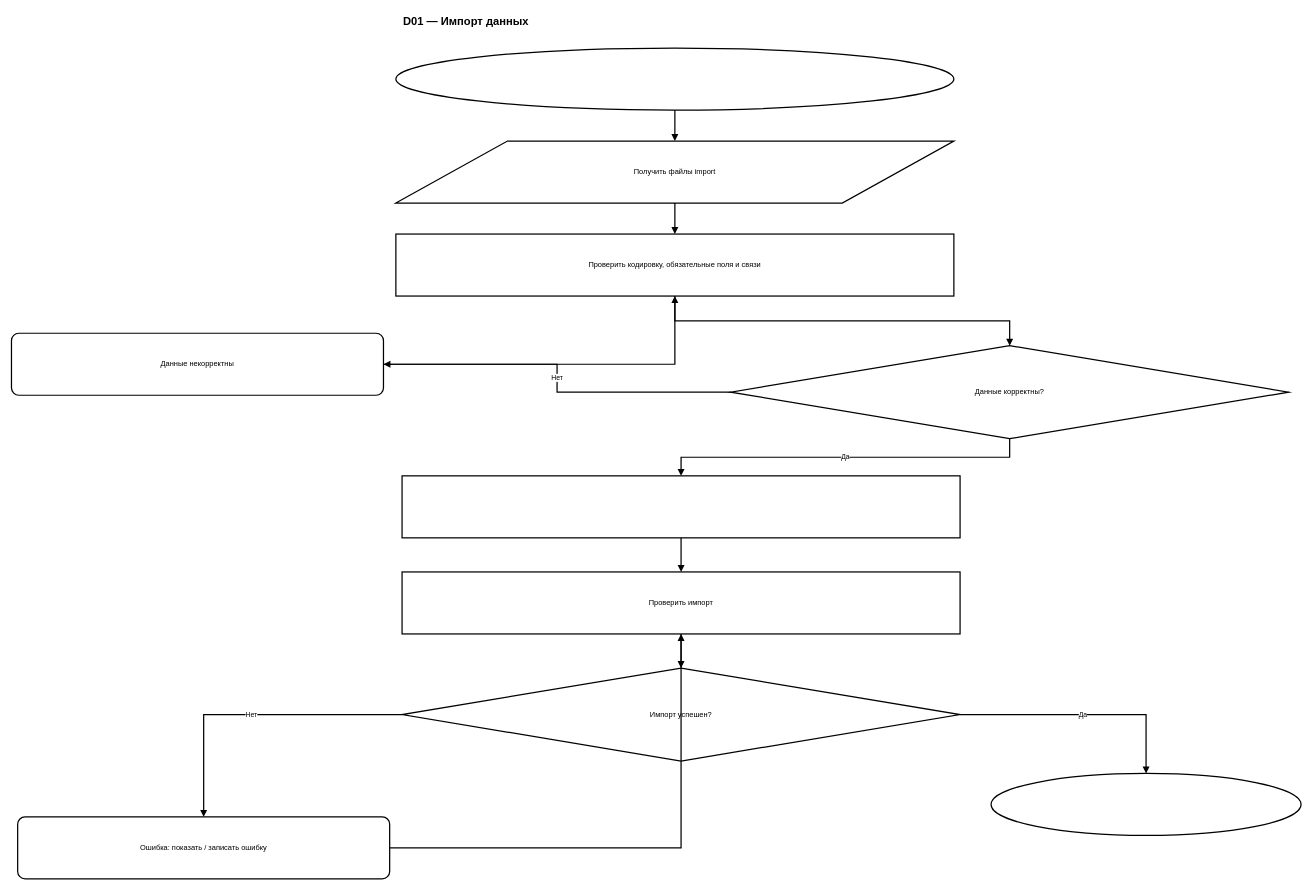
Some shapes in this 1312 by 890 pixel diagram are drawn without their labels. Here are the shapes that lost their labels. From the top down, the centre of each, then its label:
point (674, 78): Начало
point (680, 506): Загрузить данные
point (1145, 804): Конец
